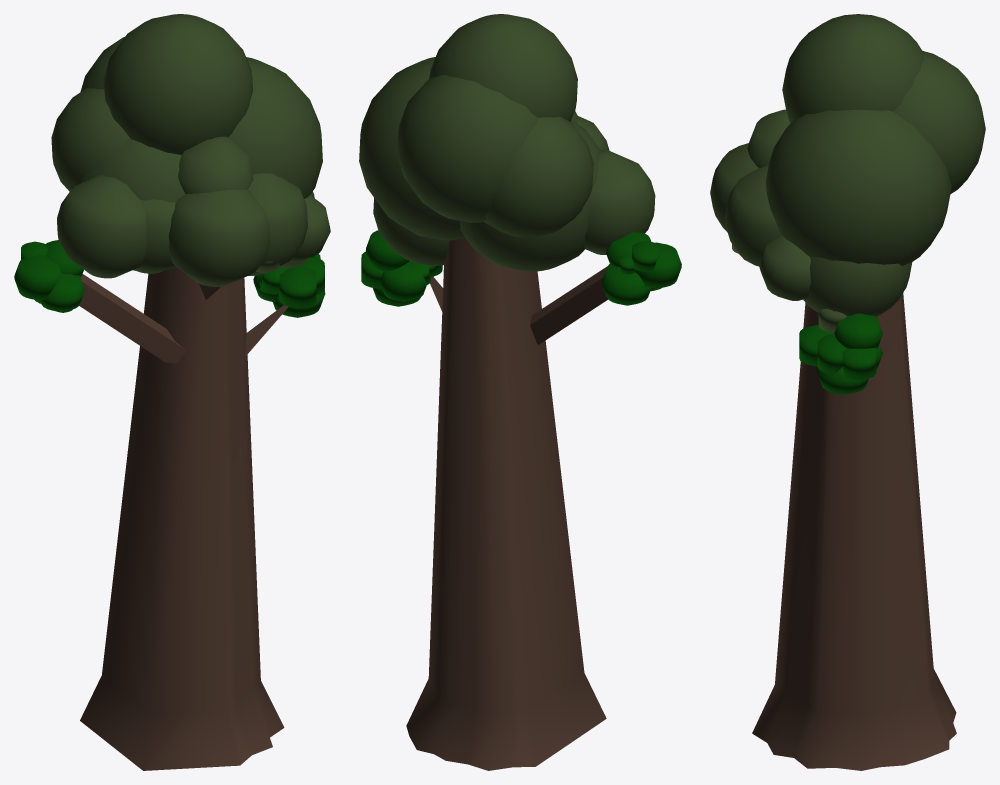
Rendered from treecel.fbx.
3 views of the same model, side by side, from view 1: azimuth 30°, elevation 25°; view 2: azimuth 150°, elevation 25°; view 3: azimuth 270°, elevation 25° (orthographic).
Parts seen in each view (by area): view 1: tree1_LOD0; view 2: tree1_LOD0; view 3: tree1_LOD0.
Part boxes in pixels (x1,y1,x2,y2): tree1_LOD0: (14, 14, 330, 770); tree1_LOD0: (359, 14, 681, 770); tree1_LOD0: (710, 14, 985, 770).
Size of what is drawn, in the model's own units: 215 by 472 by 167.
